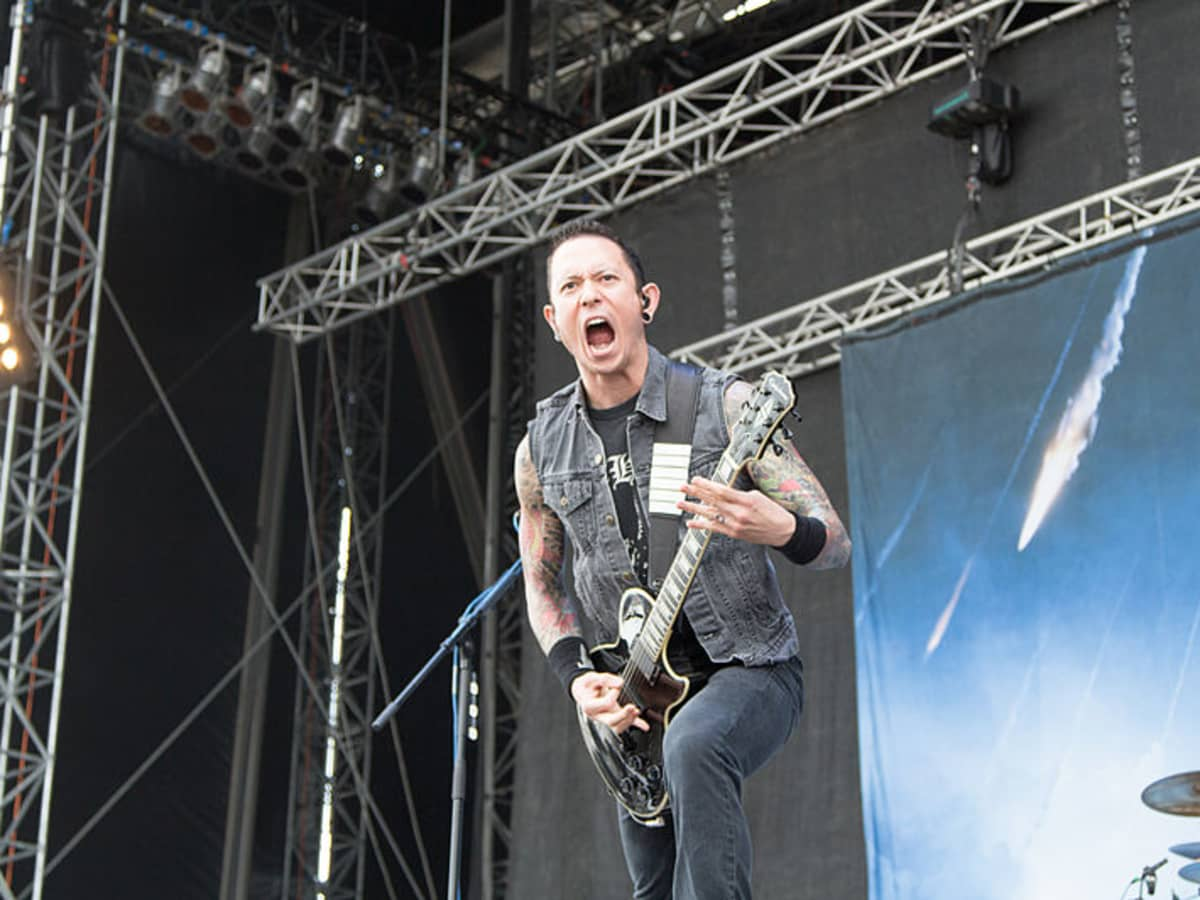acousticguitar: (570, 371, 806, 821)
